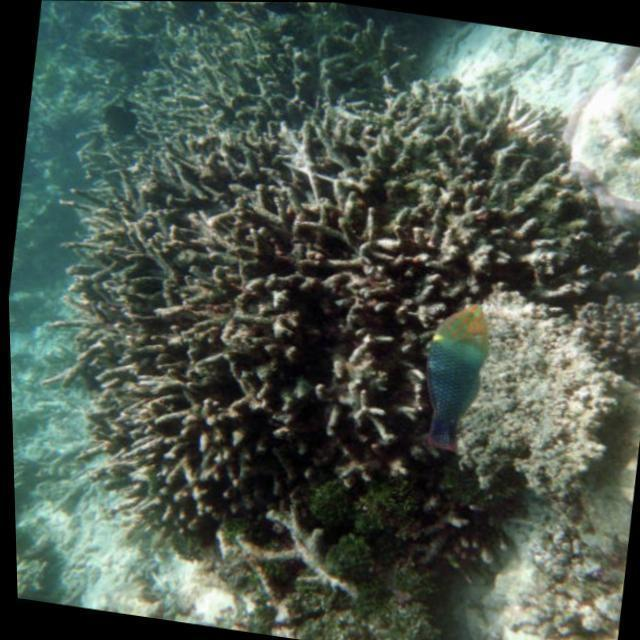Dead Coral: (96, 69, 640, 582)
